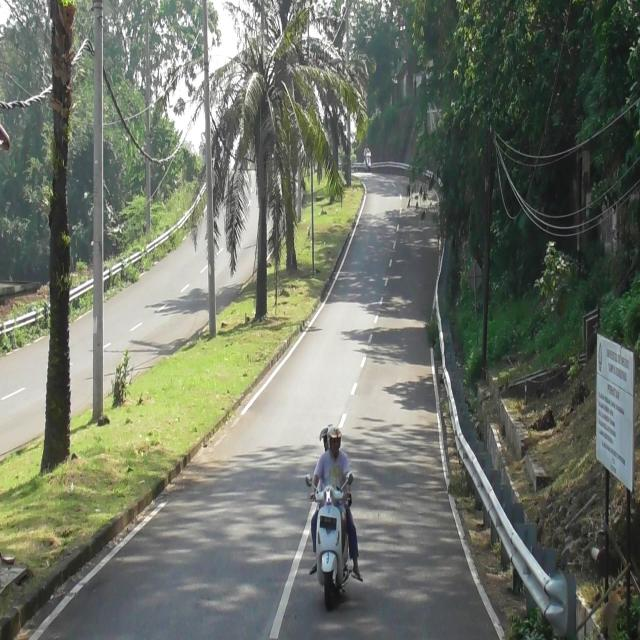motorcycle: (308, 478, 354, 607)
person: (312, 430, 354, 500), (314, 426, 334, 456)
rider_region: (309, 419, 356, 608)
